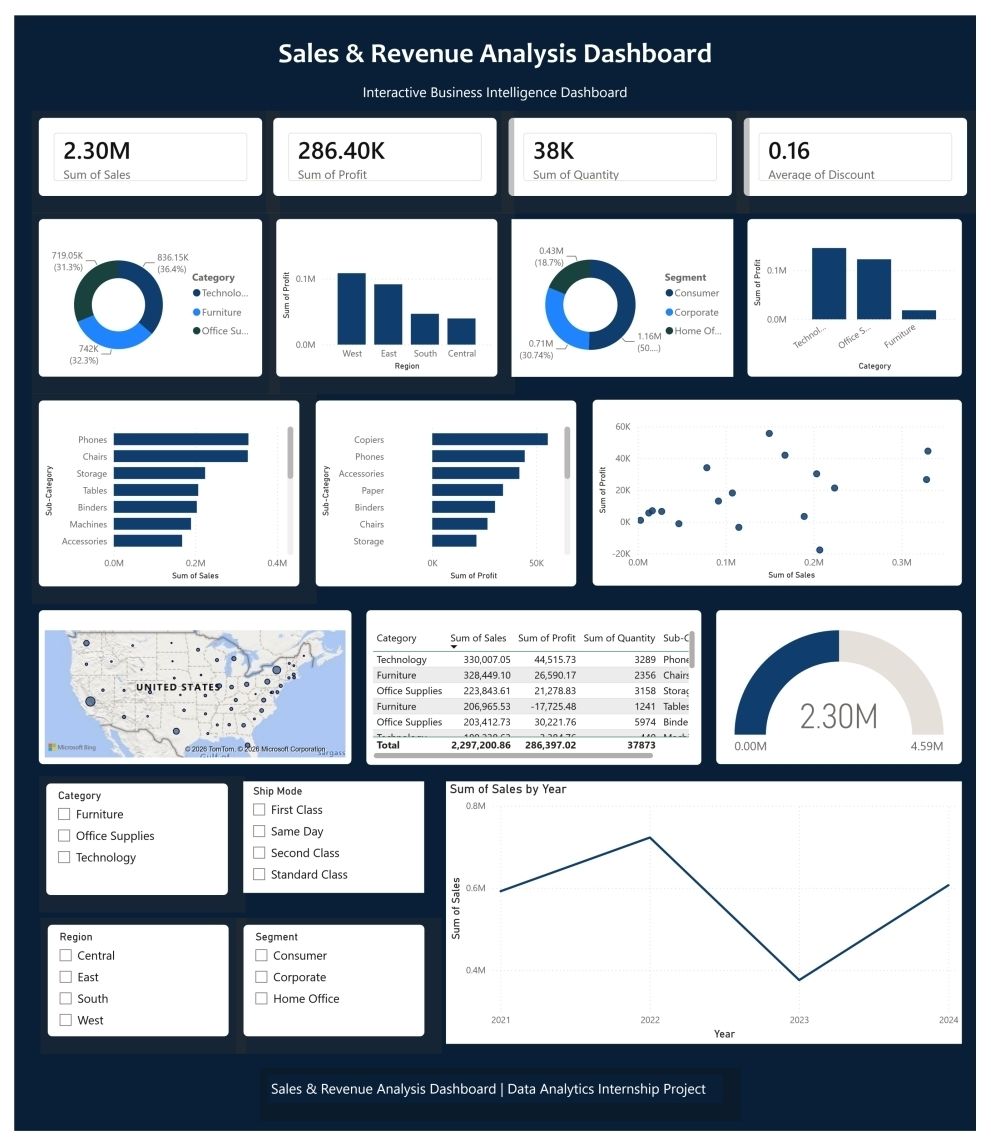

Layout of this report page (visuals, bound fields, positions):
{"tool":"powerbi","page":{"name":"Page 1","canvas":[1292,1500],"ordinal":0},"visuals":[{"type":"cardVisual","title":"Total Sales","fields":{"Data":["Sum(SampleSuperstore.Sales)"]},"box":[32.5,137.8,300,105],"z":0},{"type":"textbox","box":[170,22,952,82],"z":1000},{"type":"donutChart","title":"Sales by Category","fields":{"Category":["SampleSuperstore.Category"],"Y":["Sum(SampleSuperstore.Sales)"]},"box":[32.5,273.8,300,212.5],"z":2000},{"type":"clusteredBarChart","title":"Top Sales by Sub-Category","fields":{"Category":["SampleSuperstore.Sub-Category"],"Y":["Sum(SampleSuperstore.Sales)"]},"box":[32.5,517.8,350,250],"z":3000},{"type":"clusteredColumnChart","title":"Profit by Region","fields":{"Category":["SampleSuperstore.Region"],"Y":["Sum(SampleSuperstore.Profit)"]},"box":[351.7,273.8,297.5,212.5],"z":4000},{"type":"slicer","fields":{"Values":["SampleSuperstore.Category"]},"box":[43.3,1033.3,243.3,150],"z":5000},{"type":"slicer","fields":{"Values":["SampleSuperstore.Region"]},"box":[45,1222.5,243,150],"z":6000},{"type":"cardVisual","fields":{"Data":["Avg(SampleSuperstore.Discount)"]},"box":[980.1,137.5,300,105],"z":7000},{"type":"cardVisual","fields":{"Data":["Sum(SampleSuperstore.Quantity)"]},"box":[664.2,137.5,300,105],"z":8000},{"type":"cardVisual","fields":{"Data":["Sum(SampleSuperstore.Profit)"]},"box":[348.4,137.5,300,105],"z":9000},{"type":"slicer","fields":{"Values":["SampleSuperstore.Segment"]},"box":[307.5,1222.5,243,150],"z":10000},{"type":"donutChart","title":"Sales by Segment","fields":{"Category":["SampleSuperstore.Segment"],"Y":["Sum(SampleSuperstore.Sales)"]},"box":[668.3,273.8,297.5,212.5],"z":11000},{"type":"clusteredColumnChart","title":"Profit by Category","fields":{"Category":["SampleSuperstore.Category"],"Y":["Sum(SampleSuperstore.Profit)"]},"box":[985,273.8,287.5,212.5],"z":12000},{"type":"clusteredBarChart","title":"Top Profit by Sub-Category","fields":{"Category":["SampleSuperstore.Sub-Category"],"Y":["Sum(SampleSuperstore.Profit)"]},"box":[404.6,517.5,350,250],"z":13000},{"type":"scatterChart","title":"Sales vs Profit","fields":{"X":["Sum(SampleSuperstore.Sales)"],"Y":["Sum(SampleSuperstore.Profit)"],"Category":["SampleSuperstore.Sub-Category"]},"box":[776.7,516.7,496.7,250],"z":14000},{"type":"slicer","fields":{"Values":["SampleSuperstore.Ship Mode"]},"box":[307.5,1030,243,150],"z":15000},{"type":"map","title":"Sales & Profit Distribution by State","fields":{"Category":["SampleSuperstore.State"],"Size":["Sum(SampleSuperstore.Sales)"]},"box":[33.3,800,420,206.7],"z":16000},{"type":"gauge","fields":{"Y":["Sum(SampleSuperstore.Sales)"]},"box":[943.3,800,330,206.7],"z":17000},{"type":"tableEx","title":"Table","fields":{"Values":["SampleSuperstore.Category","Sum(SampleSuperstore.Sales)","Sum(SampleSuperstore.Profit)","Sum(SampleSuperstore.Quantity)","SampleSuperstore.Sub-Category"]},"box":[473.3,800,450,207.5],"z":18000},{"type":"lineChart","fields":{"Category":["SampleSuperstore.Order Date.Variation.Date Hierarchy.Year","SampleSuperstore.Order Date.Variation.Date Hierarchy.Quarter","SampleSuperstore.Order Date.Variation.Date Hierarchy.Month","SampleSuperstore.Order Date.Variation.Date Hierarchy.Day"],"Y":["Sum(SampleSuperstore.Sales)"]},"box":[580,1030,692.5,352.5],"z":19000},{"type":"textbox","box":[339.8,1425,612.5,37.5],"z":20000},{"type":"textbox","box":[452.2,85,387.5,52.5],"z":20001}]}

Visuals, with their boxes in screenshot pixels (x1, y1, x2, y2), scaled from the page's 1292x1500 canvas onto the 991x1148 screenshot:
"Total Sales" cardVisual: 25,105,255,186
textbox: 130,17,861,80
"Sales by Category" donutChart: 25,210,255,372
"Top Sales by Sub-Category" clusteredBarChart: 25,396,293,588
"Profit by Region" clusteredColumnChart: 270,210,498,372
slicer - SampleSuperstore.Category: 33,791,220,906
slicer - SampleSuperstore.Region: 35,936,221,1050
cardVisual - Avg(SampleSuperstore.Discount): 752,105,982,186
cardVisual - Sum(SampleSuperstore.Quantity): 509,105,740,186
cardVisual - Sum(SampleSuperstore.Profit): 267,105,497,186
slicer - SampleSuperstore.Segment: 236,936,422,1050
"Sales by Segment" donutChart: 513,210,741,372
"Profit by Category" clusteredColumnChart: 756,210,976,372
"Top Profit by Sub-Category" clusteredBarChart: 310,396,579,587
"Sales vs Profit" scatterChart: 596,395,977,587
slicer - SampleSuperstore.Ship Mode: 236,788,422,903
"Sales & Profit Distribution by State" map: 26,612,348,770
gauge - Sum(SampleSuperstore.Sales): 724,612,977,770
"Table" tableEx: 363,612,708,771
lineChart - SampleSuperstore.Order Date.Variation.Date Hierarchy.Year x SampleSuperstore.Order Date.Variation.Date Hierarchy.Quarter: 445,788,976,1058
textbox: 261,1091,730,1119
textbox: 347,65,644,105
